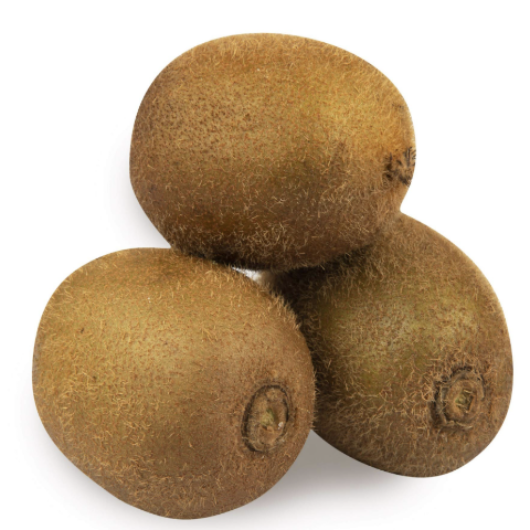kiwi: (15, 227, 344, 528), (101, 19, 421, 277), (247, 213, 502, 508)
